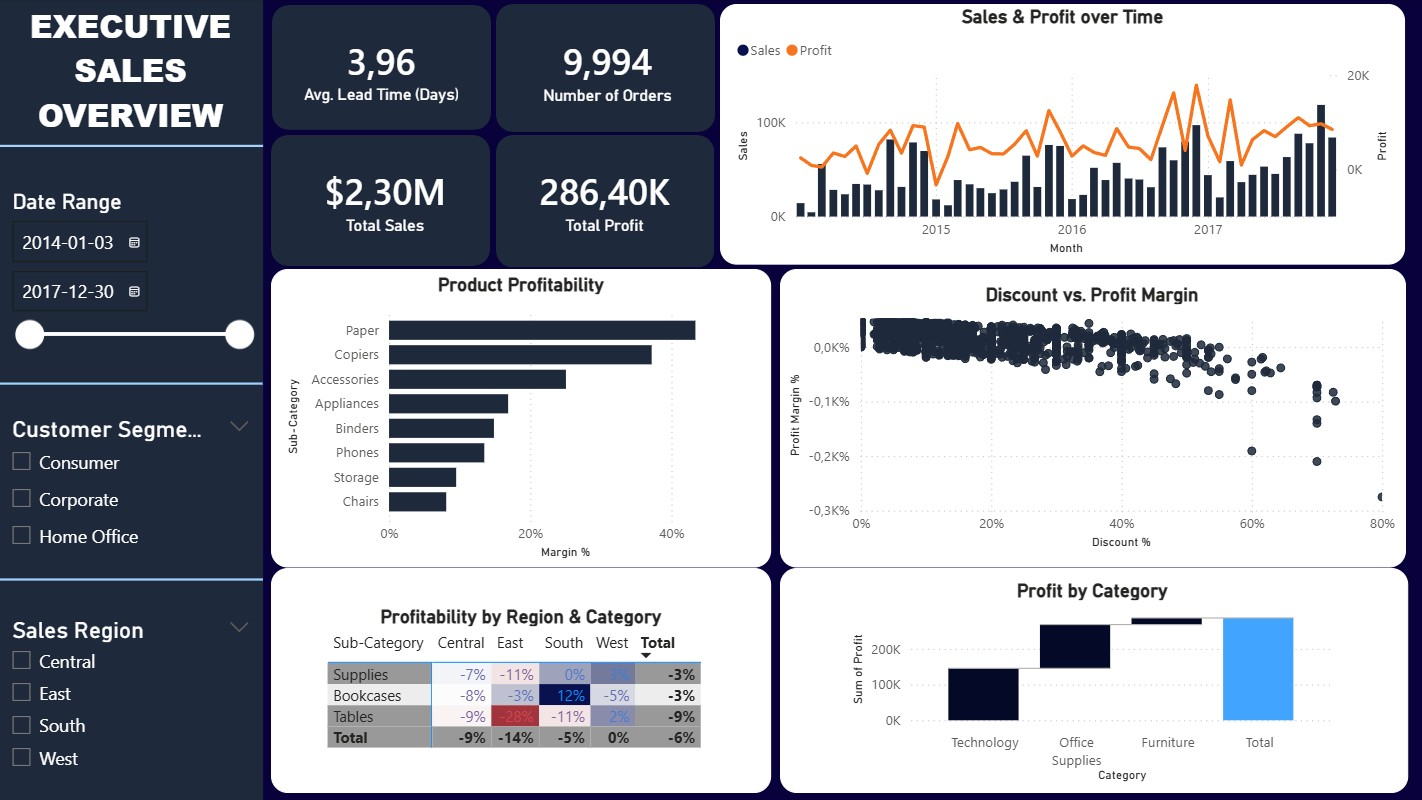

What the dashboard file says about the page in this screenshot:
{"tool":"powerbi","page":{"name":"Page 1","canvas":[1280,720],"ordinal":0},"visuals":[{"type":"shape","box":[702,510.8,563.8,202],"z":0},{"type":"shape","box":[245.1,510.8,448.9,202],"z":1000},{"type":"shape","title":"llllllllll","box":[447,0,197,119],"z":2000},{"type":"shape","title":"llllllllll","box":[447,122,196,119],"z":3000},{"type":"shape","title":"llllllllll","box":[245.1,122.1,196.6,117.6],"z":4000},{"type":"shape","title":"llllllllll","box":[246,1,197,117],"z":5000},{"type":"shape","box":[648.2,0,615,238.8],"z":6000},{"type":"shape","box":[701.6,242.5,562.5,268.3],"z":7000},{"type":"shape","box":[245.1,242.4,448.9,267.5],"z":8000},{"type":"shape","box":[0,1,238,719],"z":9000},{"type":"clusteredBarChart","title":"Product Profitability","fields":{"Category":["Superstore.Sub-Category"],"Y":["Superstore.Marża %"]},"box":[254.1,246,430.9,261.2],"z":10000},{"type":"cardVisual","fields":{"Data":["Superstore.Suma Sprzedaży"]},"box":[237.9,121.2,220,119.4],"z":11000},{"type":"cardVisual","fields":{"Data":["Superstore.Suma Zysku"]},"box":[439,121,211,119],"z":12000},{"type":"cardVisual","fields":{"Data":["Superstore.Średni Czas Dostawy"]},"box":[228,0,232.5,117.6],"z":13000},{"type":"cardVisual","fields":{"Data":["Superstore.Measure"]},"box":[441.2,0,209,121.9],"z":14000},{"type":"slicer","fields":{"Values":["Superstore.Region"]},"box":[0,549,238,154],"z":15000},{"type":"slicer","fields":{"Values":["Superstore.Segment"]},"box":[0,369,238,167],"z":16000},{"type":"slicer","fields":{"Values":["Superstore.Order Date"]},"box":[0,165,238,157],"z":17000},{"type":"shape","box":[0,302.1,237.5,85.5],"z":18000},{"type":"shape","box":[0,465,237.9,112.2],"z":19000},{"type":"textbox","title":"EXECUTIVE SALES OVERVIEW","box":[0,4,238,121],"z":20000},{"type":"scatterChart","title":"Discount vs. Profit Margin","fields":{"Y":["Superstore.Marża %"],"Category":["Superstore.Product Name"],"X":["Avg(Superstore.Discount)"]},"box":[704.7,255,554.8,243.3],"z":21000},{"type":"pivotTable","title":"Profitability by Region & Category","fields":{"Rows":["Superstore.Sub-Category"],"Columns":["Superstore.Region"],"Values":["Superstore.Marża %"]},"box":[290.9,544,357.3,135.6],"z":22000},{"type":"shape","box":[0,89,238,86],"z":23000},{"type":"waterfallChart","title":"Profit by Category","fields":{"Category":["Superstore.Category","Superstore.Sub-Category"],"Y":["Sum(Superstore.Profit)"]},"box":[761.2,520.7,442.2,186.8],"z":24000},{"type":"lineClusteredColumnComboChart","title":"Sales & Profit over Time","fields":{"Y":["Sum(Superstore.Sales)"],"Y2":["Sum(Superstore.Profit)"],"Category":["Superstore.Miesiac"]},"box":[658.1,4.5,595.2,229.8],"z":25000}]}

Visuals, with their boxes in screenshot pixels (x1, y1, x2, y2), scaled from the page's 1280x720 canvas onto the 1422x800 screenshot:
shape: left=780, top=568, right=1406, bottom=792
shape: left=272, top=568, right=771, bottom=792
"llllllllll" shape: left=497, top=0, right=715, bottom=132
"llllllllll" shape: left=497, top=136, right=714, bottom=268
"llllllllll" shape: left=272, top=136, right=491, bottom=266
"llllllllll" shape: left=273, top=1, right=492, bottom=131
shape: left=720, top=0, right=1403, bottom=265
shape: left=779, top=269, right=1404, bottom=568
shape: left=272, top=269, right=771, bottom=567
shape: left=0, top=1, right=264, bottom=799
"Product Profitability" clusteredBarChart: left=282, top=273, right=761, bottom=564
cardVisual - Superstore.Suma Sprzedaży: left=264, top=135, right=509, bottom=267
cardVisual - Superstore.Suma Zysku: left=488, top=134, right=722, bottom=267
cardVisual - Superstore.Średni Czas Dostawy: left=253, top=0, right=512, bottom=131
cardVisual - Superstore.Measure: left=490, top=0, right=722, bottom=135
slicer - Superstore.Region: left=0, top=610, right=264, bottom=781
slicer - Superstore.Segment: left=0, top=410, right=264, bottom=596
slicer - Superstore.Order Date: left=0, top=183, right=264, bottom=358
shape: left=0, top=336, right=264, bottom=431
shape: left=0, top=517, right=264, bottom=641
"EXECUTIVE SALES OVERVIEW" textbox: left=0, top=4, right=264, bottom=139
"Discount vs. Profit Margin" scatterChart: left=783, top=283, right=1399, bottom=554
"Profitability by Region & Category" pivotTable: left=323, top=604, right=720, bottom=755
shape: left=0, top=99, right=264, bottom=194
"Profit by Category" waterfallChart: left=846, top=579, right=1337, bottom=786
"Sales & Profit over Time" lineClusteredColumnComboChart: left=731, top=5, right=1392, bottom=260
